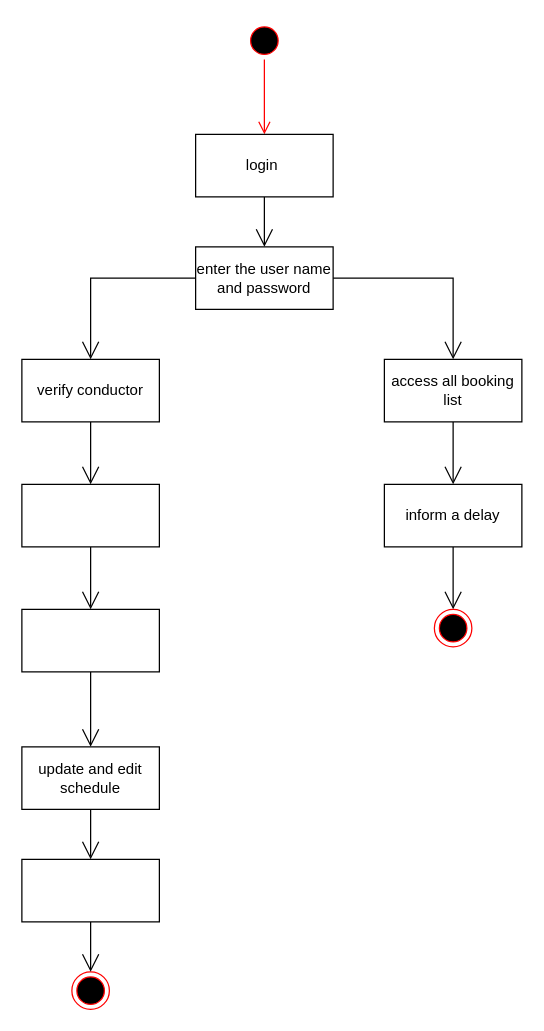
Image size: 544x1031. Some labels were removed from this diagram. The shapes that lost their labels are listed below. From the top down, each one's centre as x and y in pixels, then its label:
At [90,515]: "add and remove bus".
At [90,640]: "assign conductor to the buses".
At [90,890]: "add busses to time slots".
